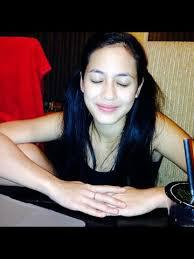Drowsy: (66, 34, 159, 130)
